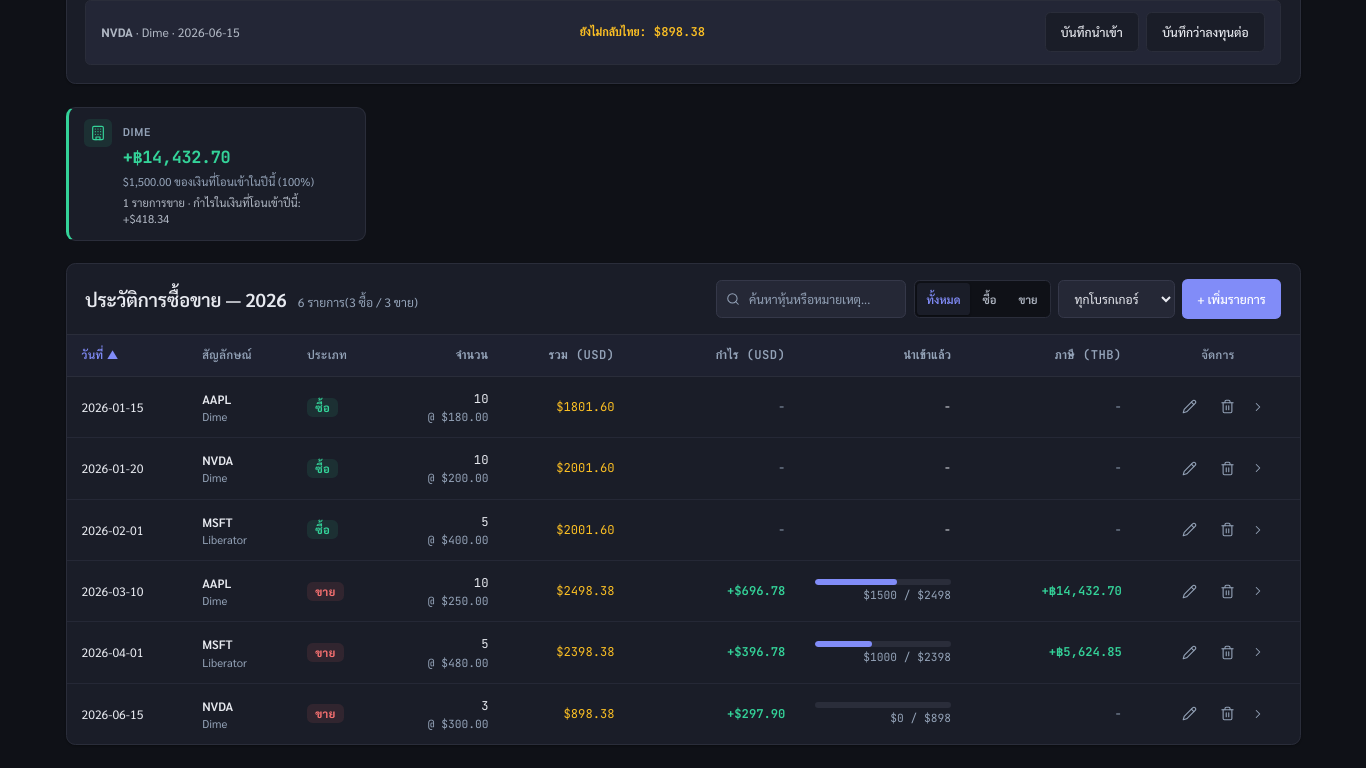
edit-mode type safety guards › refuses to open a SELL trade that still has remittances and shows a non-blocking toast
(page scrolled)
Click the button with class "btn-edit" in the row of "250.00" at (1189, 591), box [1171, 573, 1207, 609]
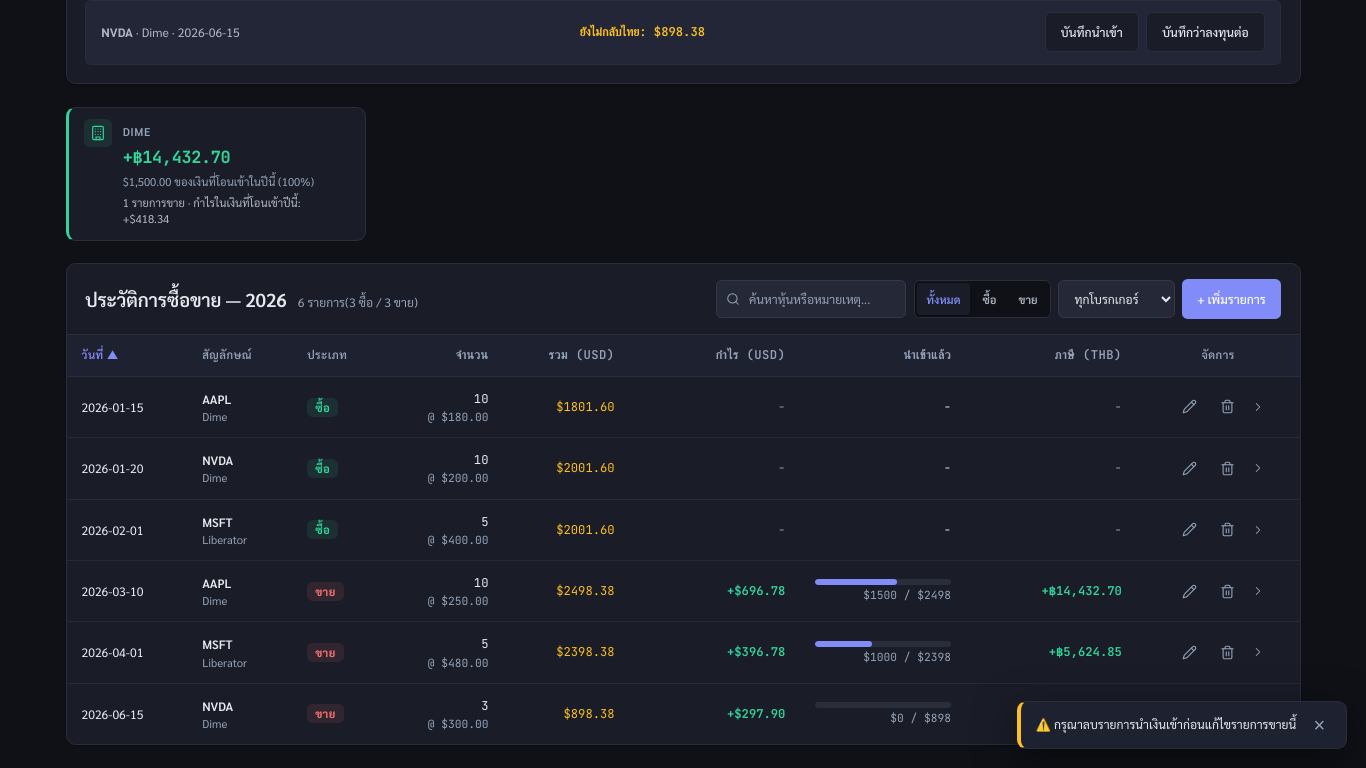
Expected: the message "⚠️ กรุณาลบรายการนำเงินเข้าก่อนแก้ไขรายการขายนี้ ×" is shown, [1017, 701, 1347, 749]
Expected: the message with class "toast-banner" shows "⚠️ กรุณาลบรายการนำเงินเข้าก่อนแก้ไขรายการขายนี้", [1036, 716, 1296, 732]
Click the button with class "toast-close" at (1319, 725), box [1308, 713, 1331, 737]
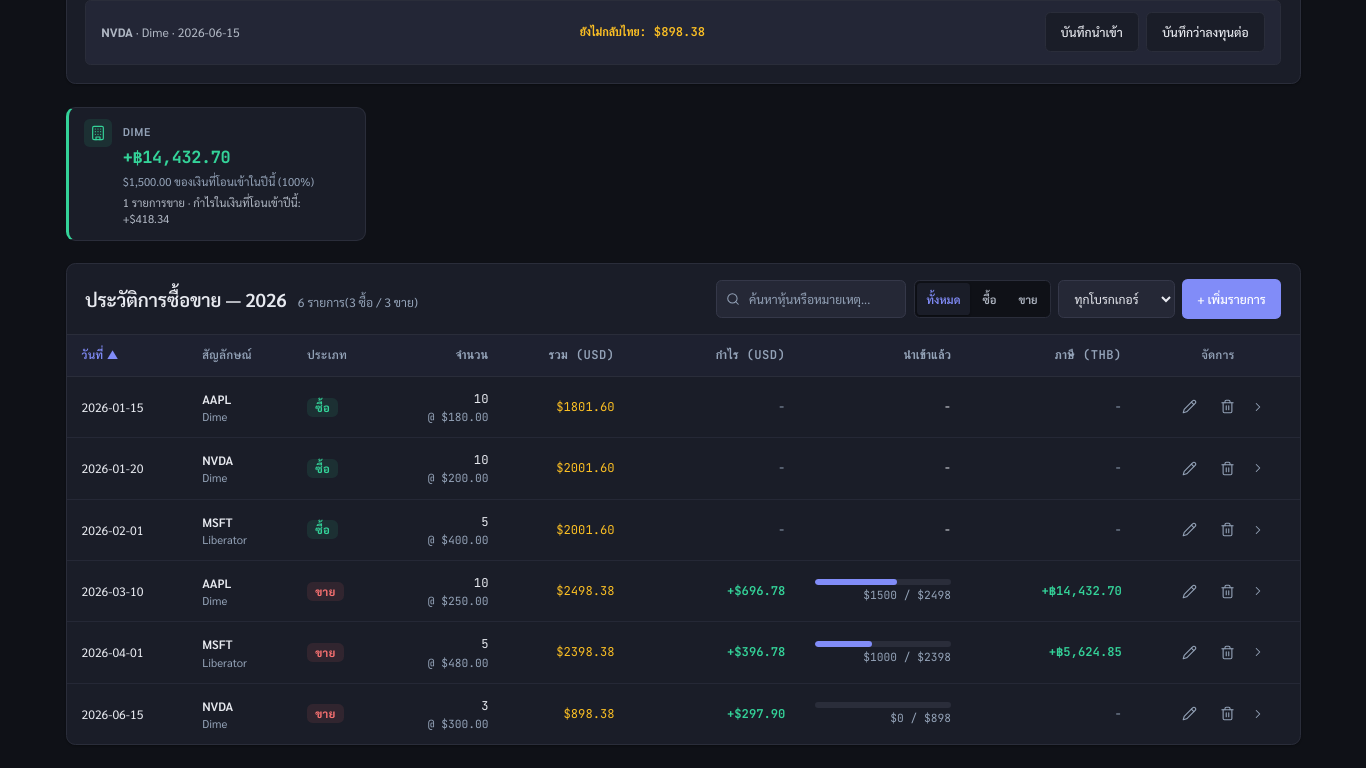
Expected: the message with class "toast-banner" is gone
